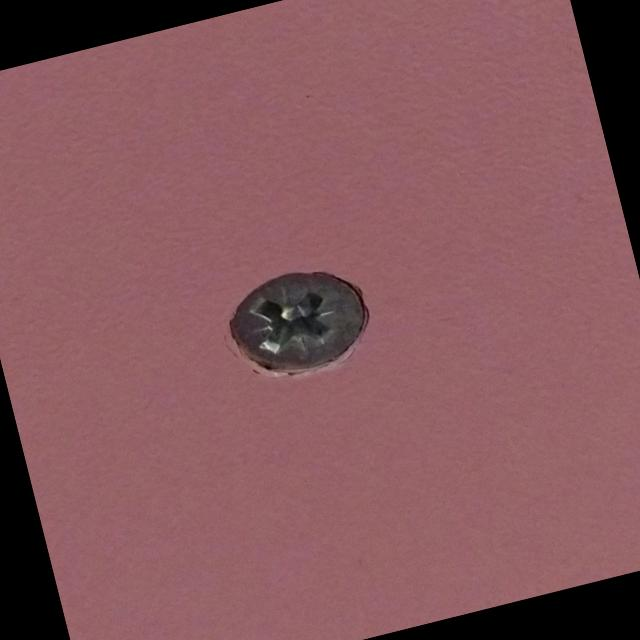Pozidriv: (213, 246, 394, 396)
